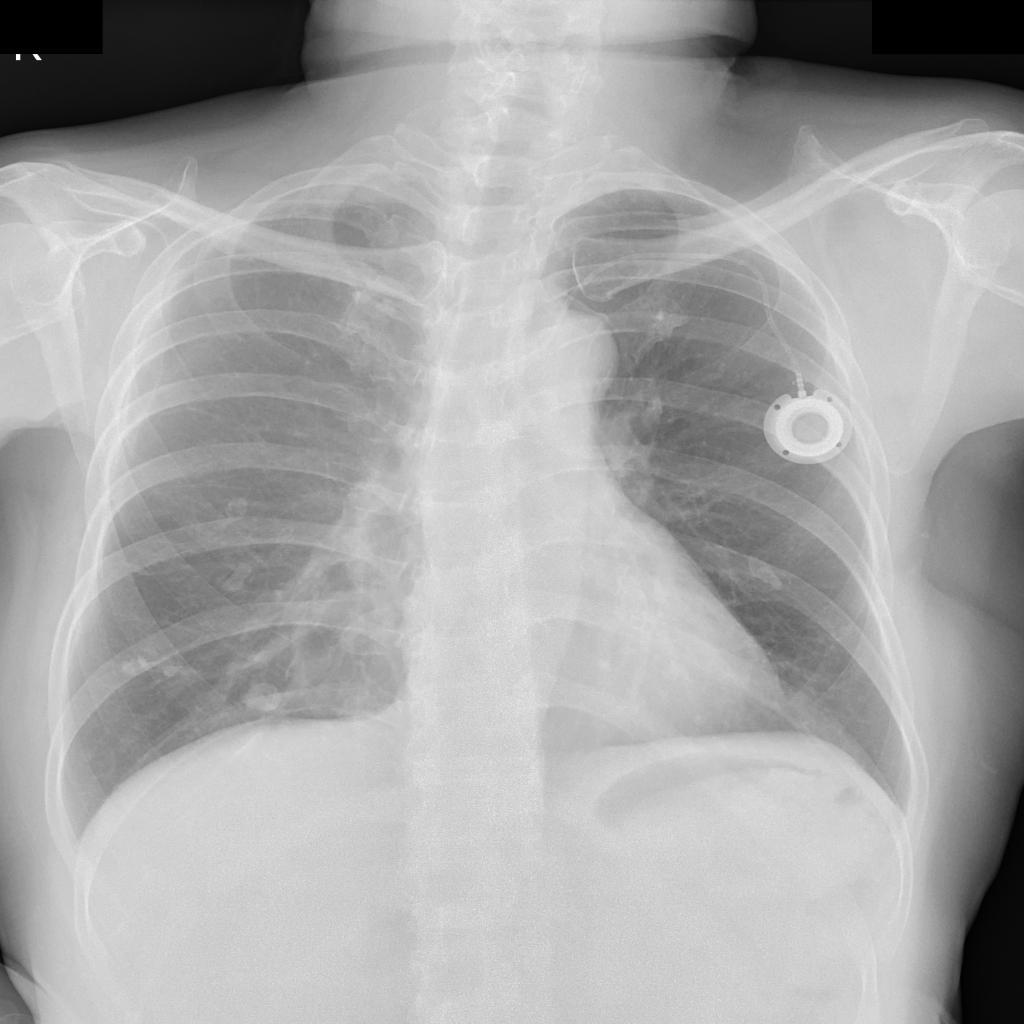Nodule: (737, 559, 785, 594), (123, 656, 188, 678), (242, 684, 284, 712), (223, 494, 251, 522)
